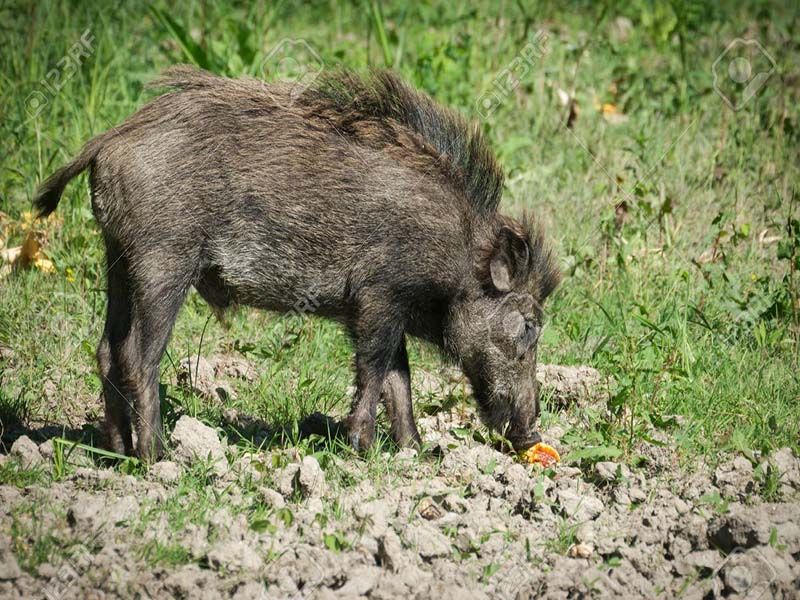cinghiale: (60, 77, 563, 477)
